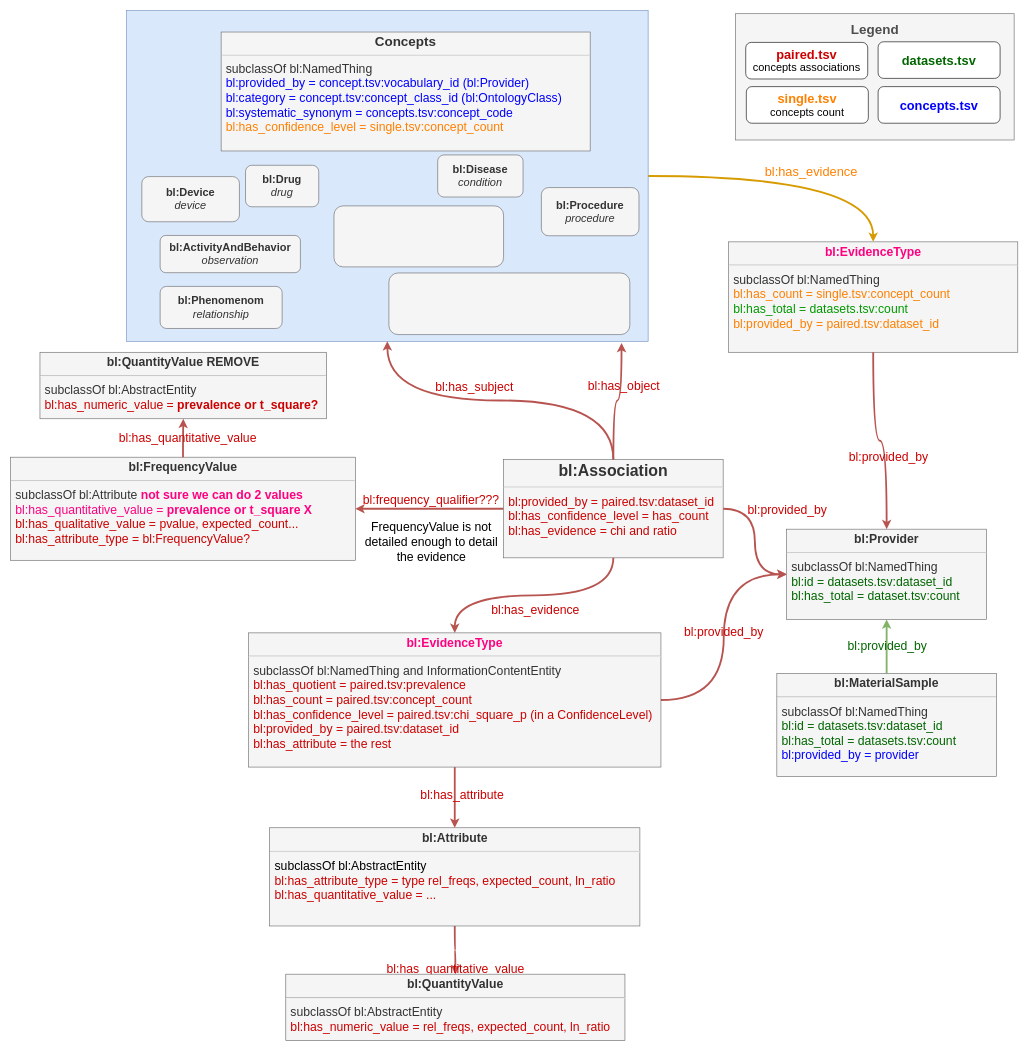
The diagram is 1028 pixels wide and 1052 high, and some of its shapes have lost their labels. The centre of each missing label's shape, as x and y in pixels:
"bl: PopulationOfIndividualOrganisms race ethnicity gender" belongs at point (509, 303).
"bl:Phenomenon measurement" belongs at point (418, 236).
